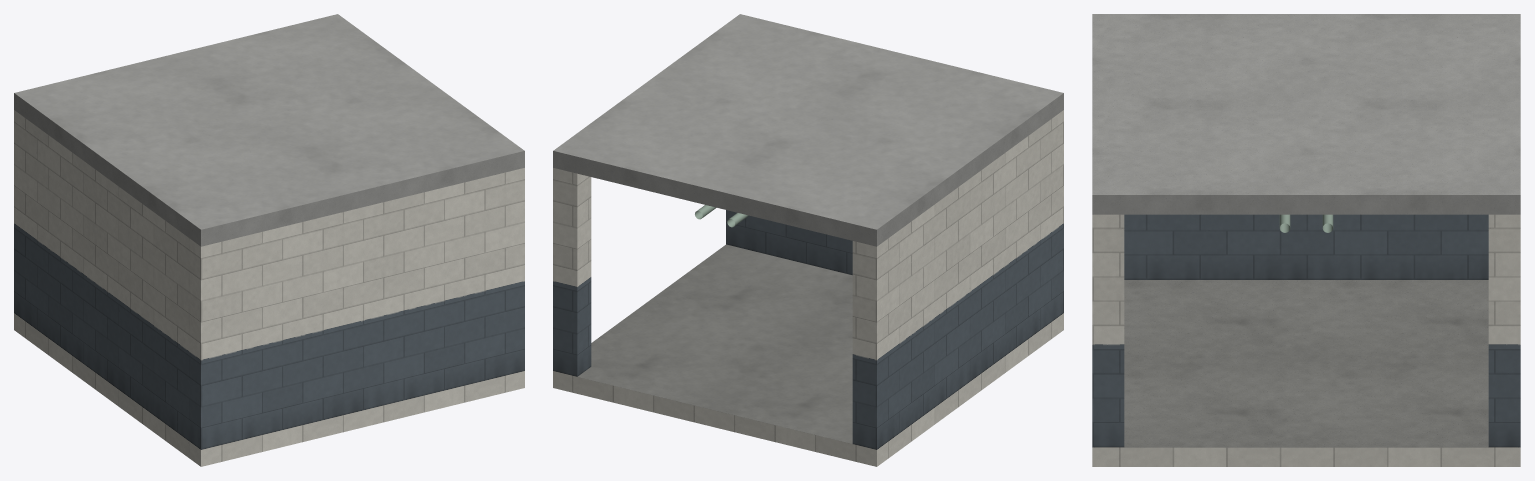
File: Corridor_Basement_Corner_NoLight.glb
3 views of the same model, side by side, from view 1: azimuth 30°, elevation 25°; view 2: azimuth 150°, elevation 25°; view 3: azimuth 270°, elevation 25° (orthographic). The views are drawn at different scales.
Parts seen in each view (by area): view 1: Corridor_Basement_Corner_NoLight, Corridor_Basement_Corner_NoLight_Ceiling; view 2: Corridor_Basement_Corner_NoLight, Corridor_Basement_Corner_NoLight_Ceiling; view 3: Corridor_Basement_Corner_NoLight, Corridor_Basement_Corner_NoLight_Ceiling.
Boxes of the visible parts, bbox=[...] form: Corridor_Basement_Corner_NoLight: bbox=[14, 110, 524, 466]; Corridor_Basement_Corner_NoLight_Ceiling: bbox=[14, 14, 524, 246]; Corridor_Basement_Corner_NoLight: bbox=[553, 110, 1063, 466]; Corridor_Basement_Corner_NoLight_Ceiling: bbox=[553, 14, 1063, 246]; Corridor_Basement_Corner_NoLight: bbox=[1092, 214, 1520, 466]; Corridor_Basement_Corner_NoLight_Ceiling: bbox=[1092, 14, 1520, 232].
Bounding box in the file's own units: 4 × 2.8 × 4.
Materials: 5 (3 with a texture image).
